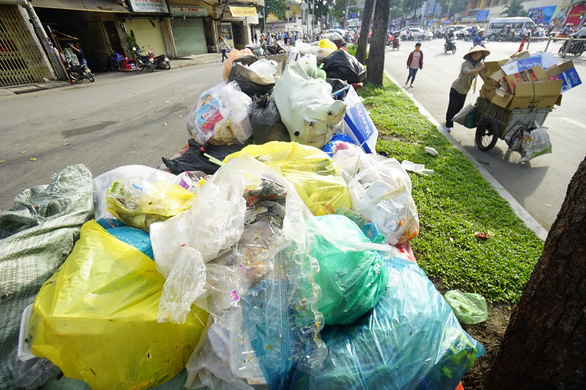plastic bag: (1, 139, 487, 390), (184, 36, 384, 150)
